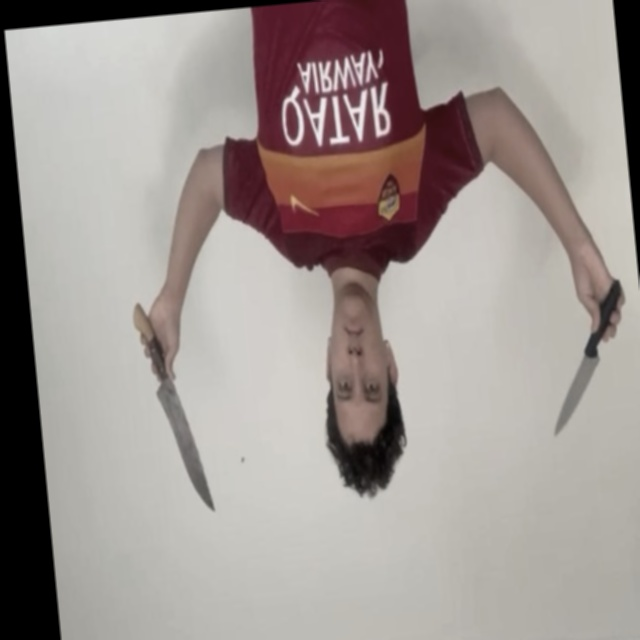Sharp-Object: (155, 384, 217, 520), (547, 359, 607, 437)
